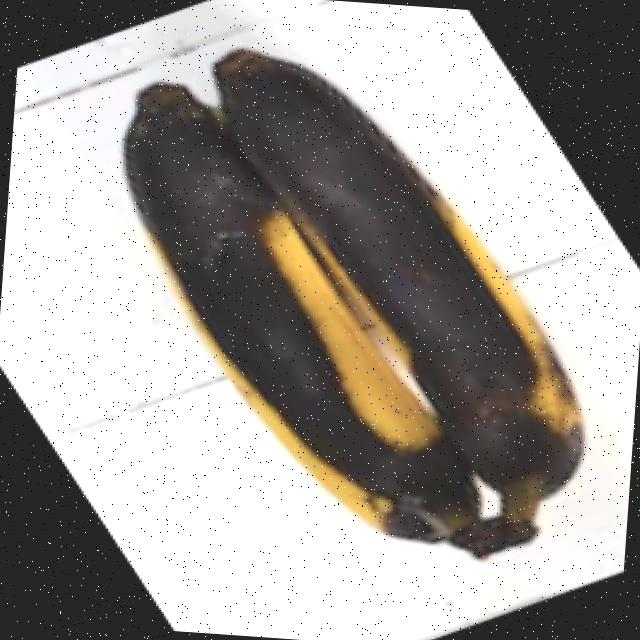Rotten: (174, 46, 612, 518)
